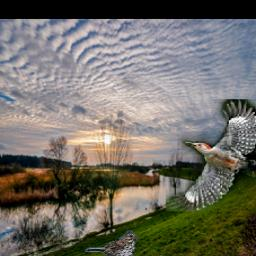Sparrow: (86, 230, 139, 256)
Woodpecker: (166, 100, 256, 212)
